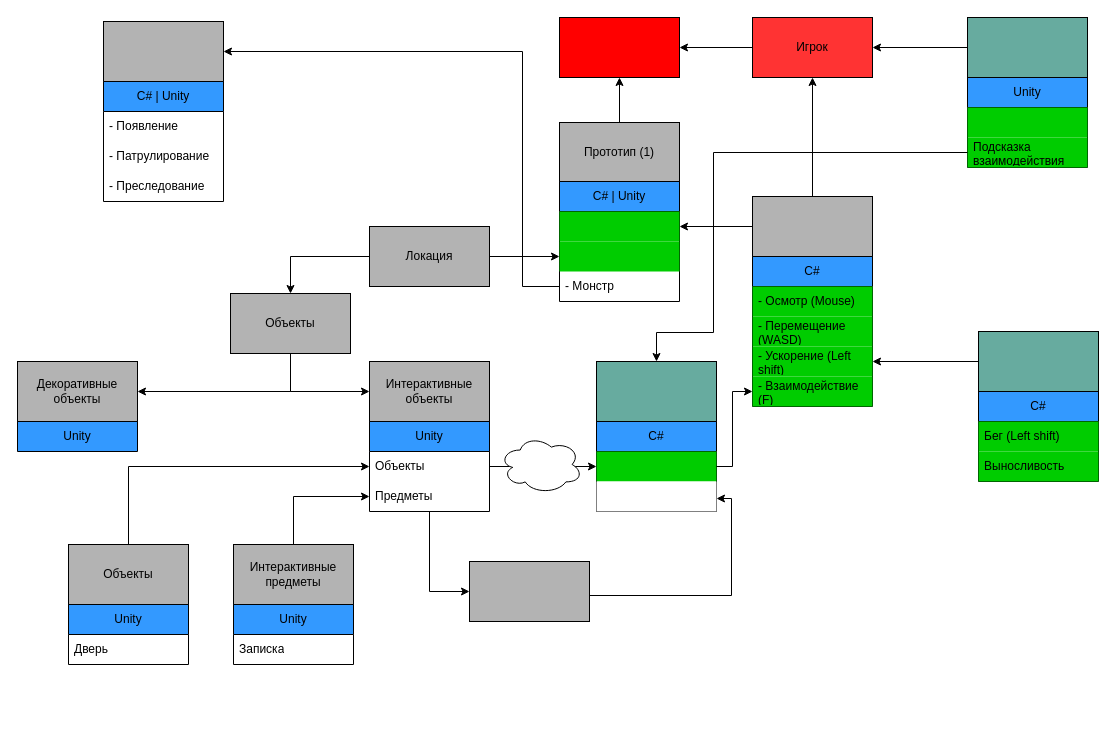
Some shapes in this 1116 by 742 pixel diagram are drawn without their labels. The shapes that lost their labels are listed below. From the top down, each one's box as (x1, y1, x2, y2) in pixels, then its label:
(102, 20, 224, 82): Монстр
(558, 16, 680, 78): After Midnight
(966, 16, 1088, 78): Интерфейс
(967, 107, 1087, 137): Перекрестие
(559, 211, 679, 241): - Управление
(752, 196, 872, 256): Управление
(559, 241, 679, 271): - Локация
(978, 330, 1098, 392): Ускорение
(596, 360, 716, 422): Интеракция
(498, 434, 582, 494): Заглушка
(596, 451, 716, 481): Взаимодействие (F)
(596, 481, 716, 511): Использование
(468, 560, 590, 622): Инвентарь
